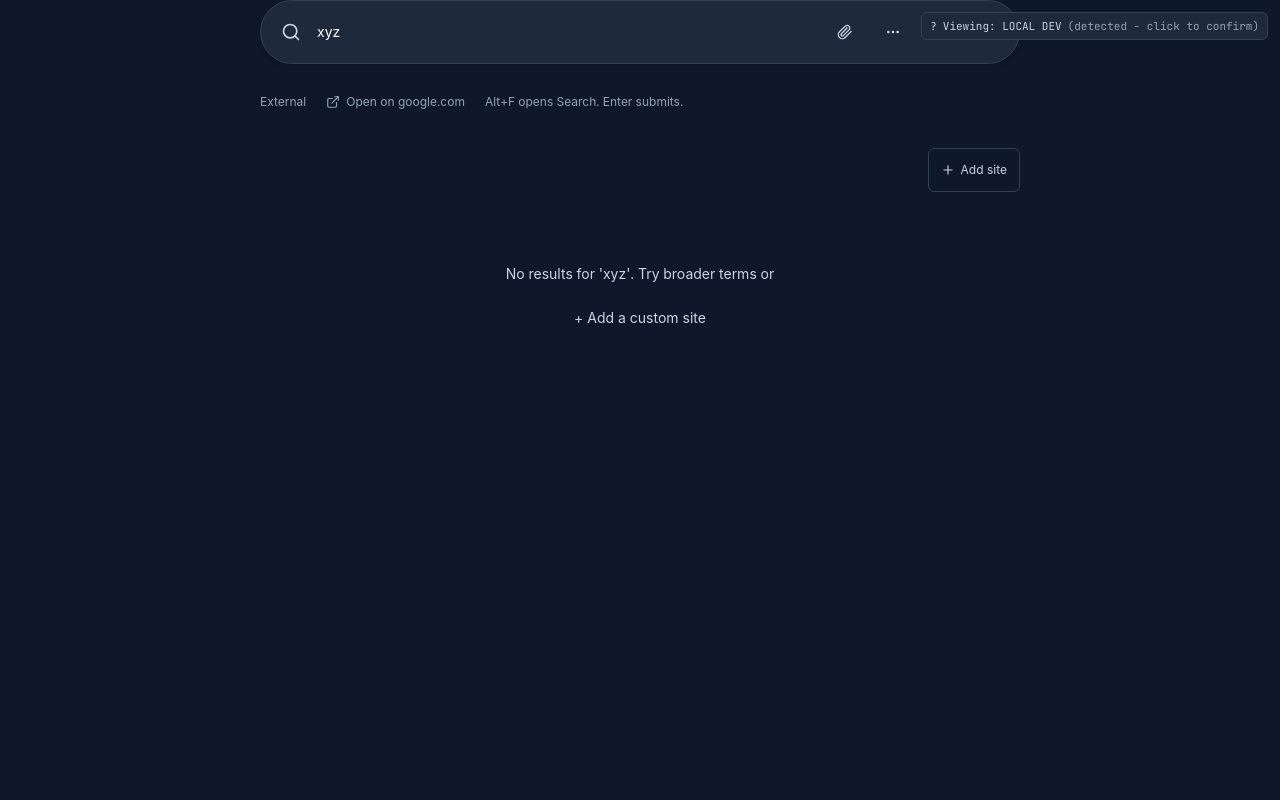
Test: F79 clean empty state + F78 preservation › the empty-state custom-site button opens F78's quick-add modal
Click the button with test id "add-custom-site-button" at (640, 318), box [562,296,718,340]
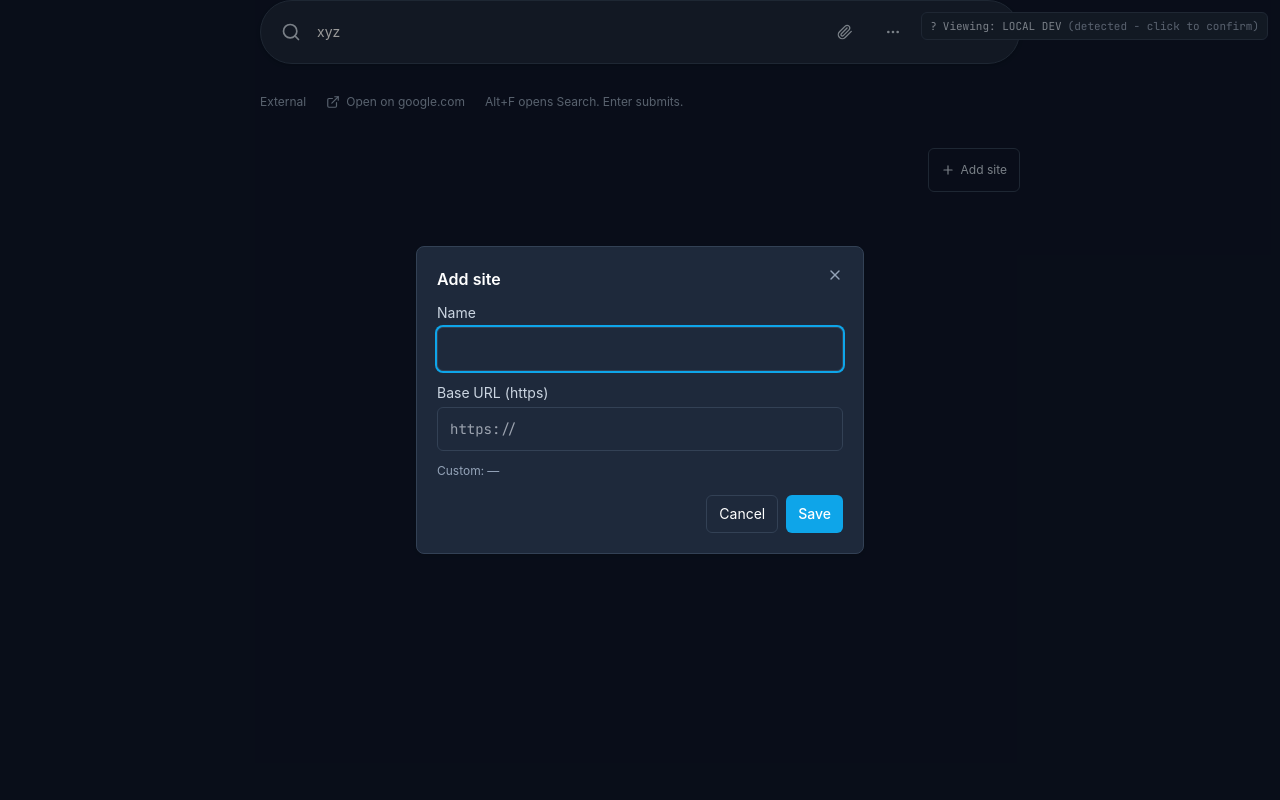
Expected: the dialog with id "f78" is shown, [416,246,864,554]
Expected: the field with id "f78" is shown, [437,327,843,371]
